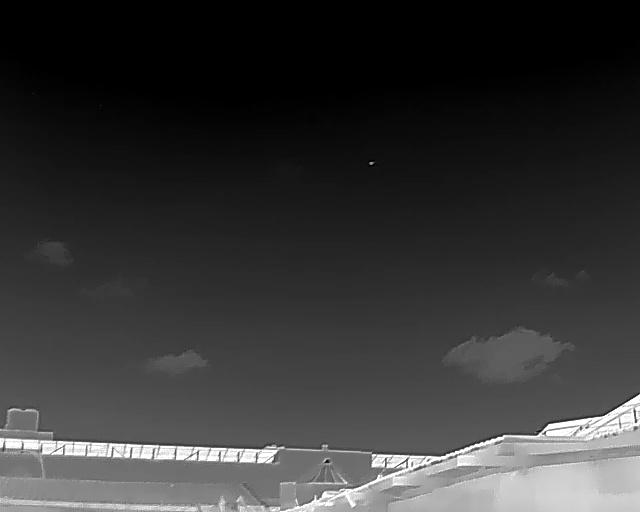fpv-drone: (368, 160, 376, 166)
